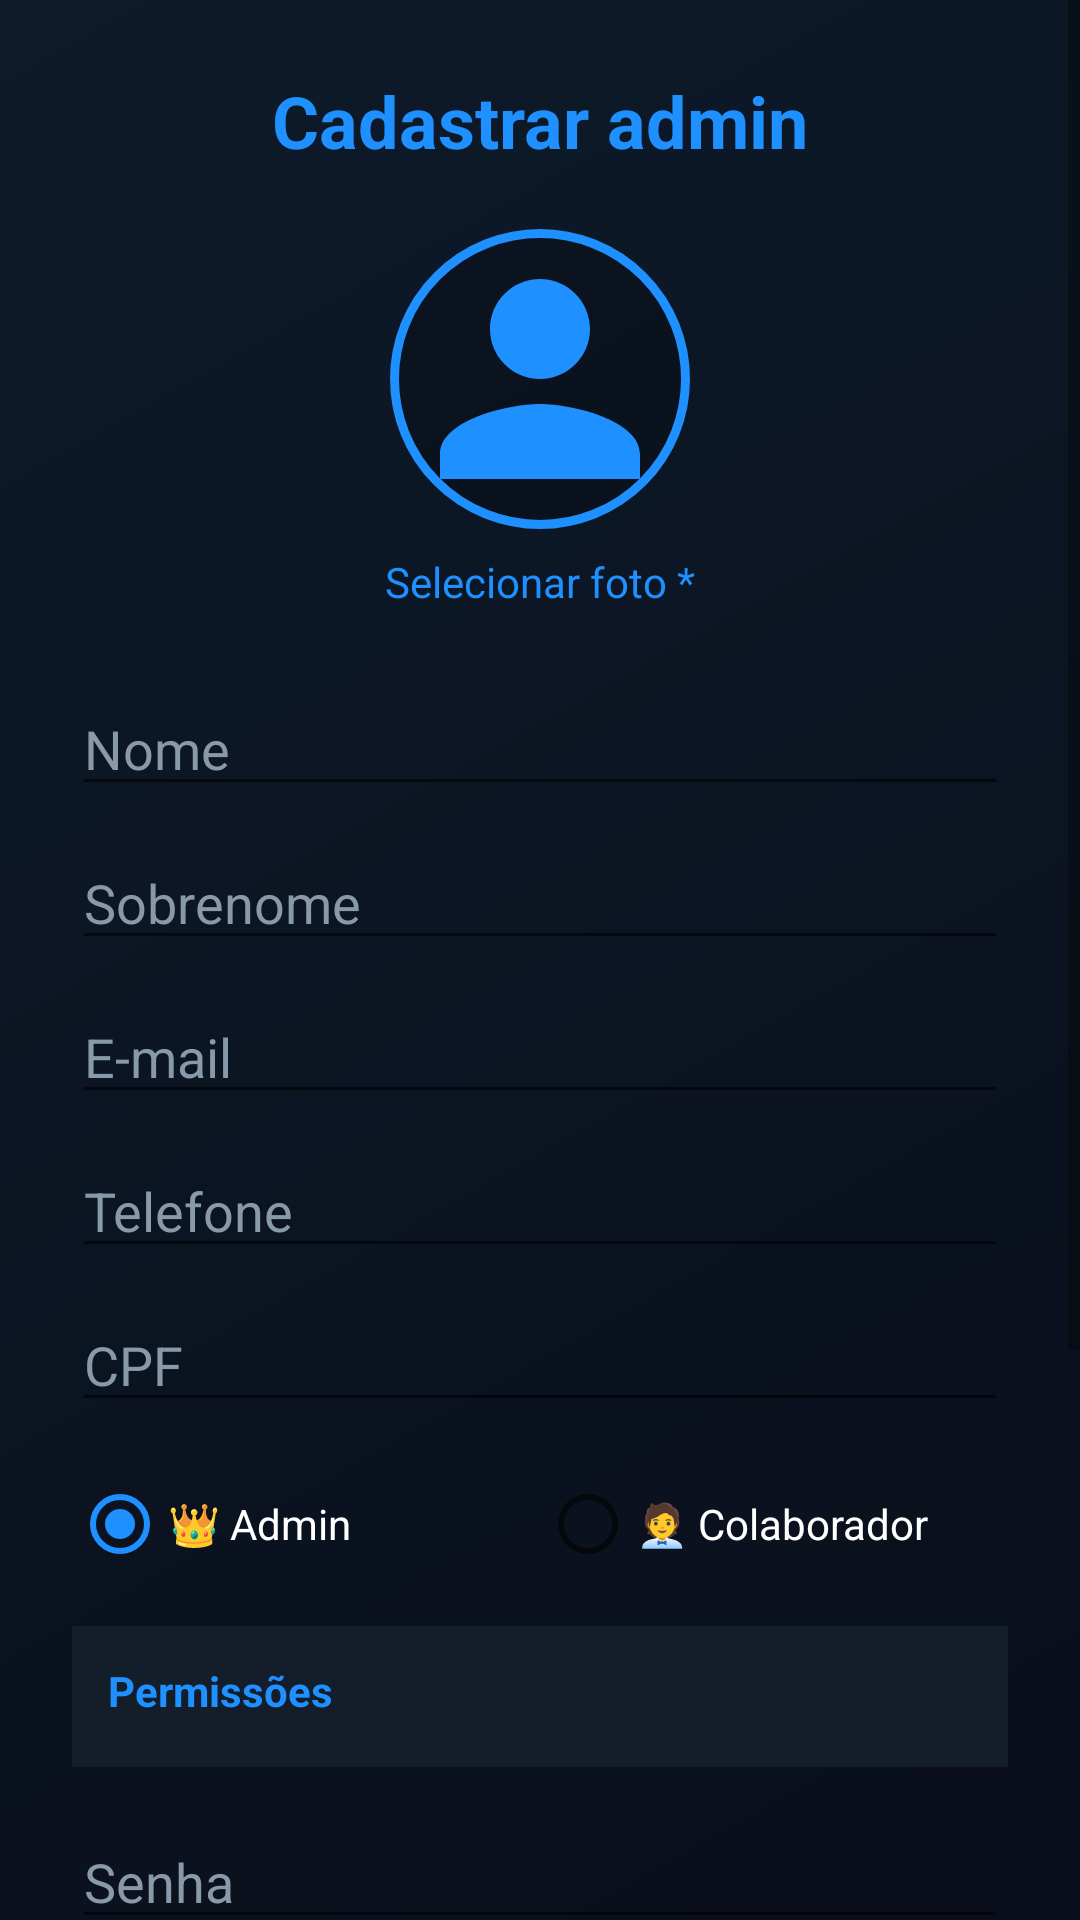

Screen size 1080x1920. Icon name, then its center in pixels as (x=x, y=y):
Foto de perfil: (x=540, y=379)
